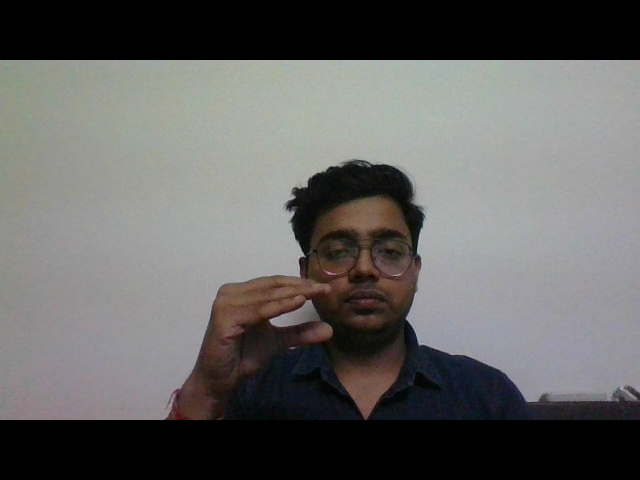no: (191, 264, 357, 409)
